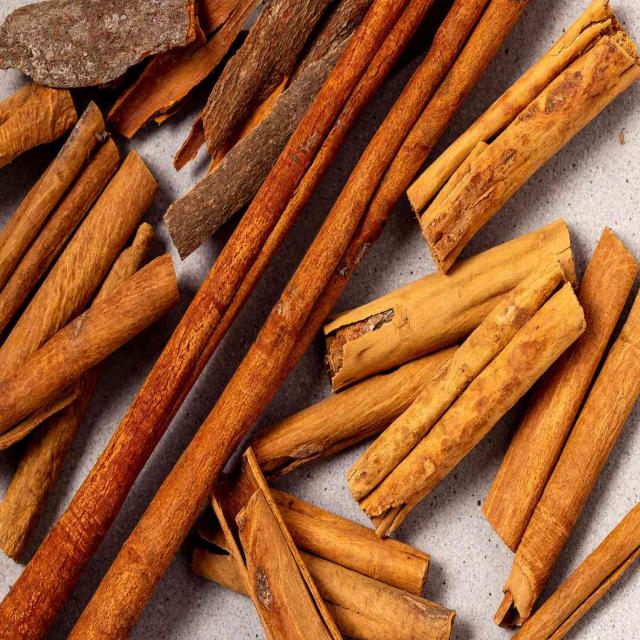Cinnamon: (0, 0, 405, 639), (75, 69, 424, 637), (488, 229, 640, 626), (360, 283, 585, 534), (348, 257, 565, 500), (421, 36, 640, 271), (482, 227, 639, 552), (408, 0, 611, 218), (324, 217, 575, 391), (165, 40, 348, 258), (0, 150, 159, 381), (0, 253, 180, 434), (251, 347, 456, 478), (210, 448, 341, 639), (0, 139, 120, 332), (0, 101, 105, 289), (201, 0, 329, 154), (0, 0, 196, 88), (270, 489, 430, 596), (301, 554, 455, 639), (0, 82, 78, 166)
